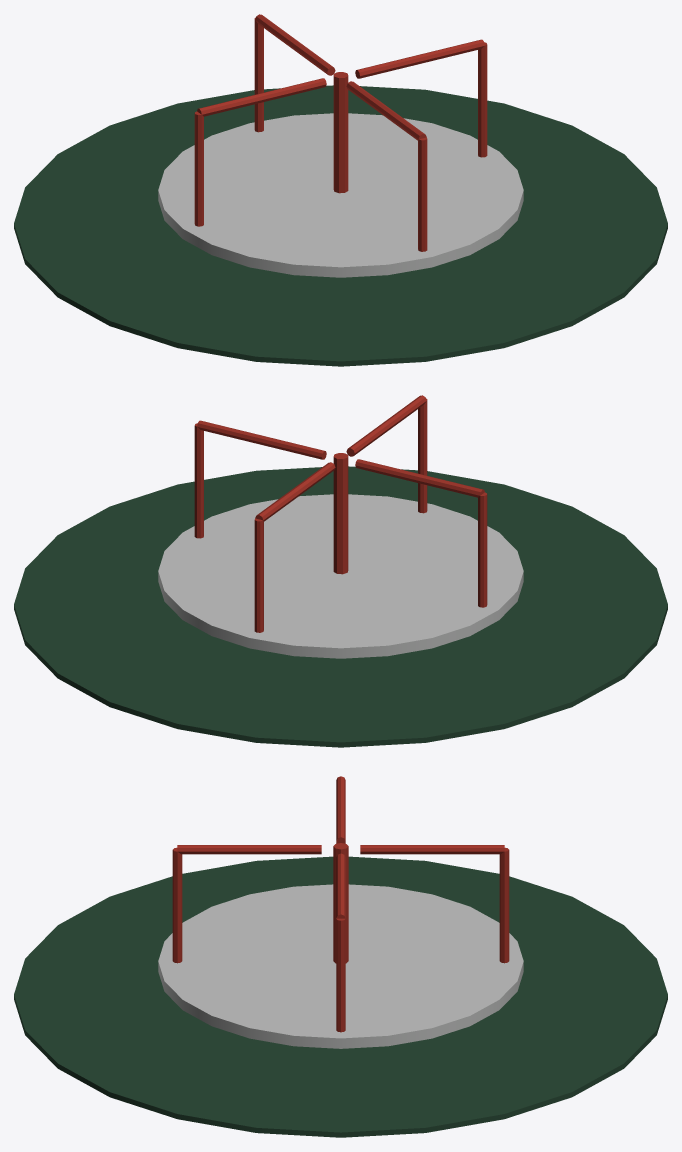
File: sport.play.roundabout.glb
3 renders of one model, top to bottom at view 1: azimuth 30°, elevation 25°; view 2: azimuth 150°, elevation 25°; view 3: azimuth 270°, elevation 25°, orthographic.
Visible parts, largest first — view 1: main__paint_243, main__galv_bbb, main__paint_a32; view 2: main__paint_243, main__galv_bbb, main__paint_a32; view 3: main__paint_243, main__galv_bbb, main__paint_a32.
Boxes of the visible parts, x1,y1,x2,y2 form: main__paint_243: [14, 85, 667, 366]; main__galv_bbb: [158, 113, 523, 277]; main__paint_a32: [194, 14, 487, 251]; main__paint_243: [14, 466, 667, 747]; main__galv_bbb: [158, 494, 523, 658]; main__paint_a32: [194, 395, 487, 632]; main__paint_243: [14, 856, 667, 1137]; main__galv_bbb: [158, 884, 523, 1048]; main__paint_a32: [172, 776, 509, 1032].
Bounding box in the file's own units: 3.4 × 0.889 × 3.4.
